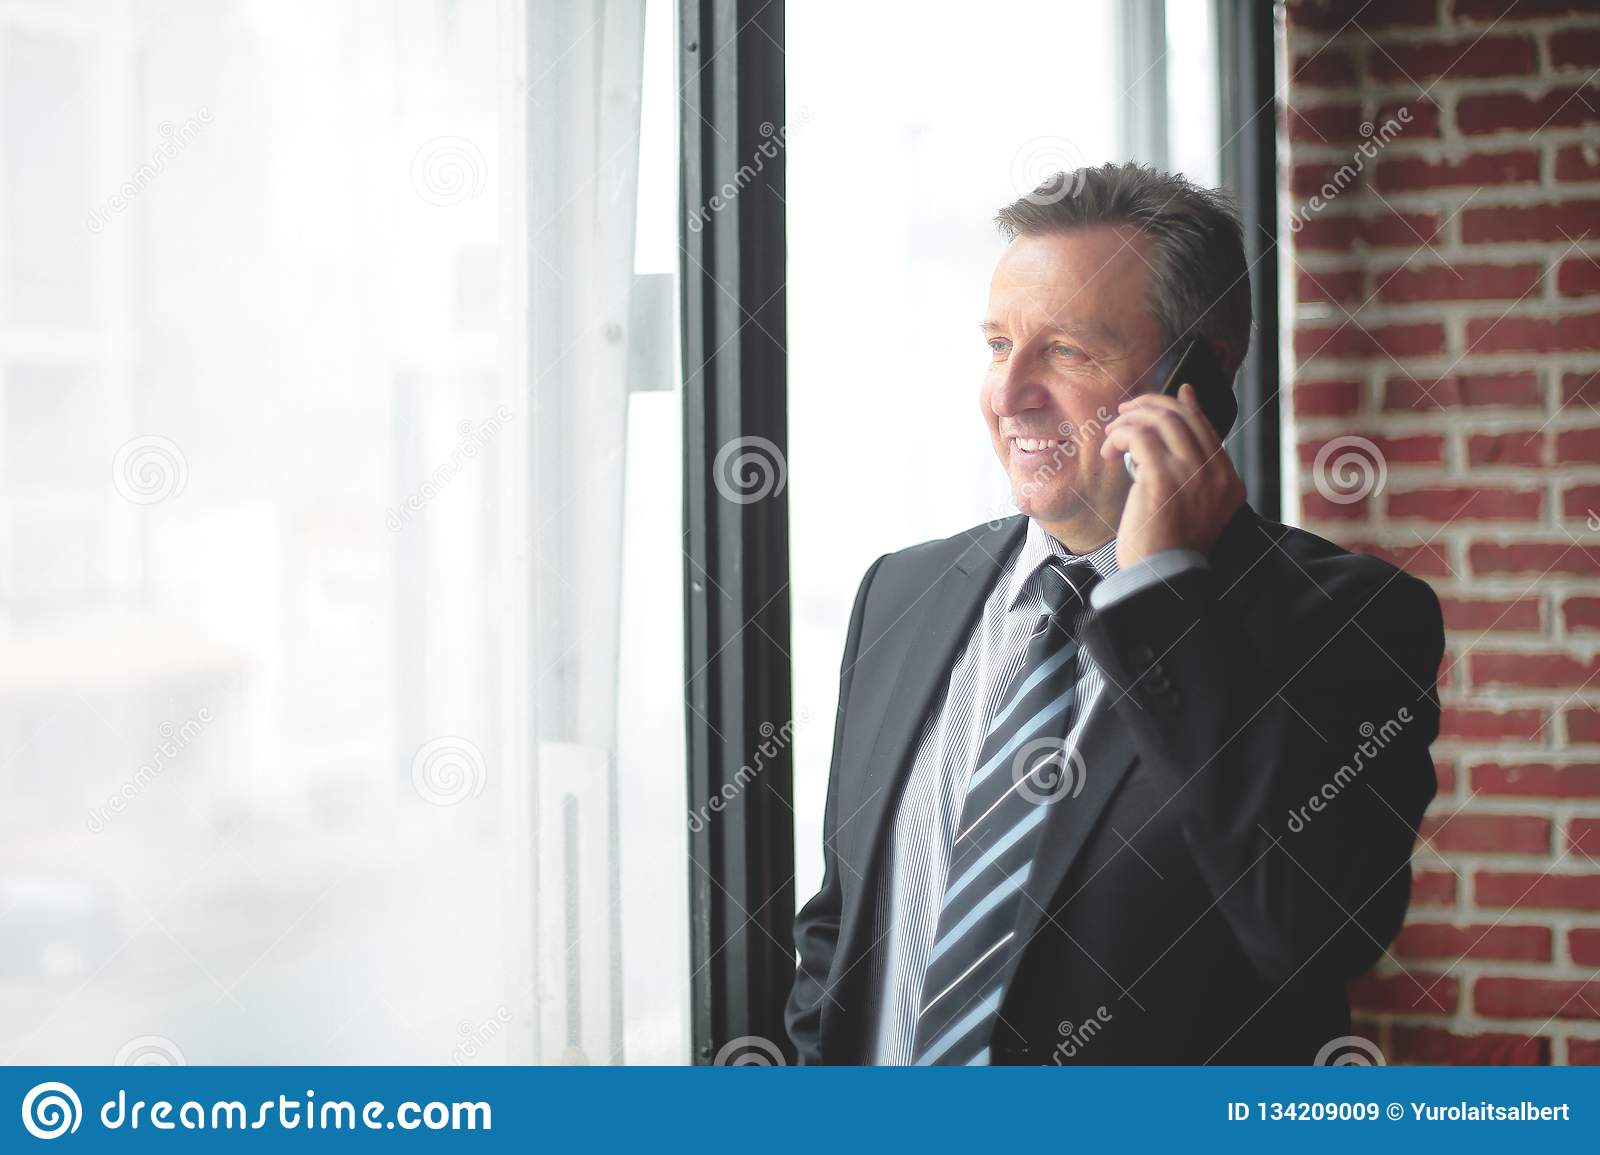phone: (1123, 337, 1239, 488)
talk: (980, 302, 1246, 582)
